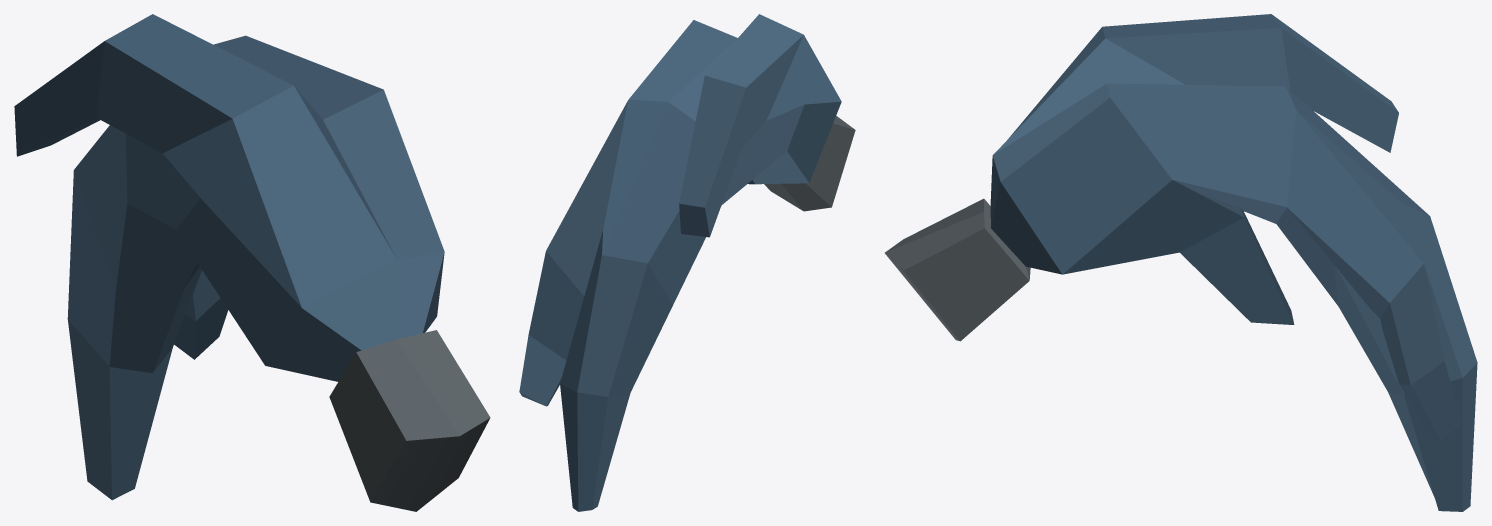
File: Chr_HelmetAttachment_01_Static.fbx
3 views of the same model, side by side, from view 1: azimuth 30°, elevation 25°; view 2: azimuth 150°, elevation 25°; view 3: azimuth 270°, elevation 25° (orthographic). The views are drawn at different scales.
Visible parts, largest first — view 1: Chr_HelmetAttachment_01_Static; view 2: Chr_HelmetAttachment_01_Static; view 3: Chr_HelmetAttachment_01_Static.
Boxes of the visible parts, x1=… form: Chr_HelmetAttachment_01_Static: x1=14, y1=14, x2=490, y2=511; Chr_HelmetAttachment_01_Static: x1=519, y1=14, x2=855, y2=511; Chr_HelmetAttachment_01_Static: x1=885, y1=14, x2=1477, y2=511.
Size of the model in its own units: 0.1671 by 0.3844 by 0.4513.
